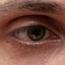eye: (28, 26, 45, 42)
